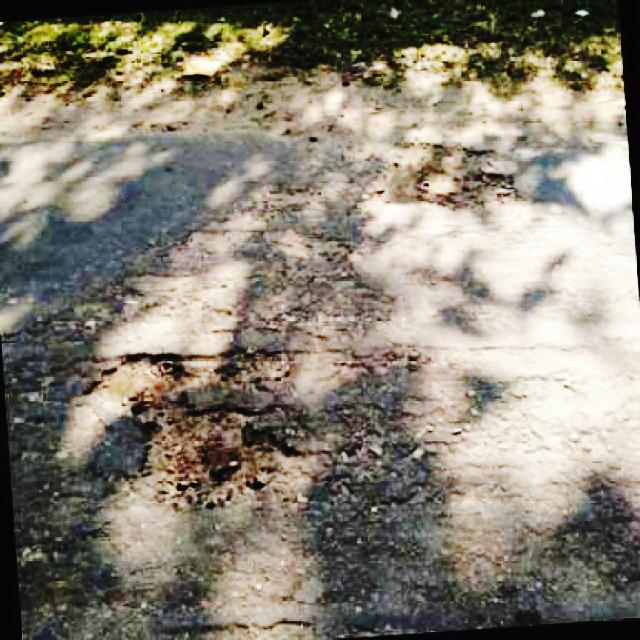pothole: (88, 346, 309, 512), (420, 157, 518, 217)
